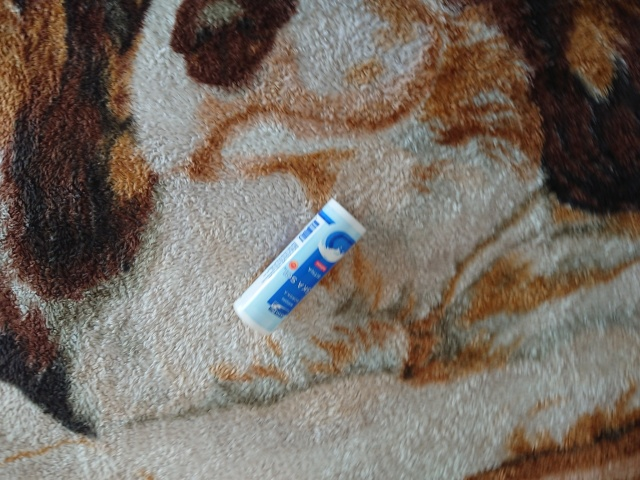Solana Pag Fine Sea Salt 250g: (230, 195, 370, 338)
